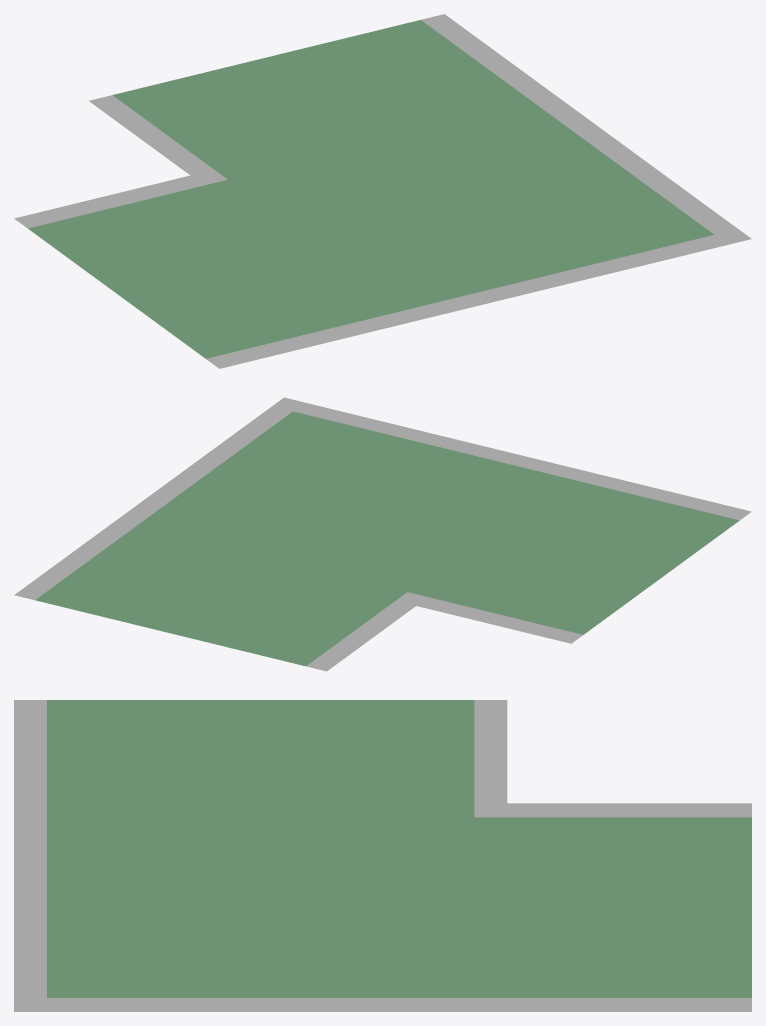
Rendered from SM_GroundHuman_S02_L01_02.fbx.
3 views of the same model, one above another, from view 1: azimuth 30°, elevation 25°; view 2: azimuth 150°, elevation 25°; view 3: azimuth 270°, elevation 25° (orthographic). The views are drawn at different scales.
Parts seen in each view (by area): view 1: SM_GroundHuman_S02_L01_02; view 2: SM_GroundHuman_S02_L01_02; view 3: SM_GroundHuman_S02_L01_02.
Part boxes in pixels (<box>): SM_GroundHuman_S02_L01_02: <box>14,14,751,368</box>; SM_GroundHuman_S02_L01_02: <box>14,397,751,671</box>; SM_GroundHuman_S02_L01_02: <box>14,700,751,1011</box>.
Size of the model in its own units: 299 by 0 by 299.
